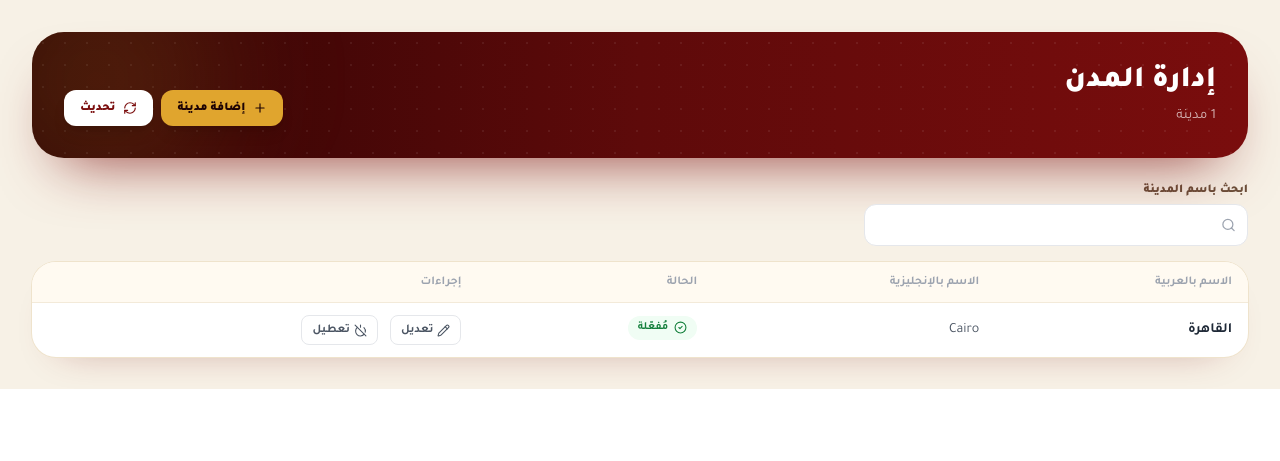
US1 — view the cities list and search › AC4: refresh re-fetches and reflects added / toggled cities, keeping the search term
Expected: the text "القاهرة" is shown, [995, 302, 1248, 357]
Step 1. Type "ة" into the field labelled "ابحث باسم المدينة" → (1056, 225), box [864, 204, 1248, 246]
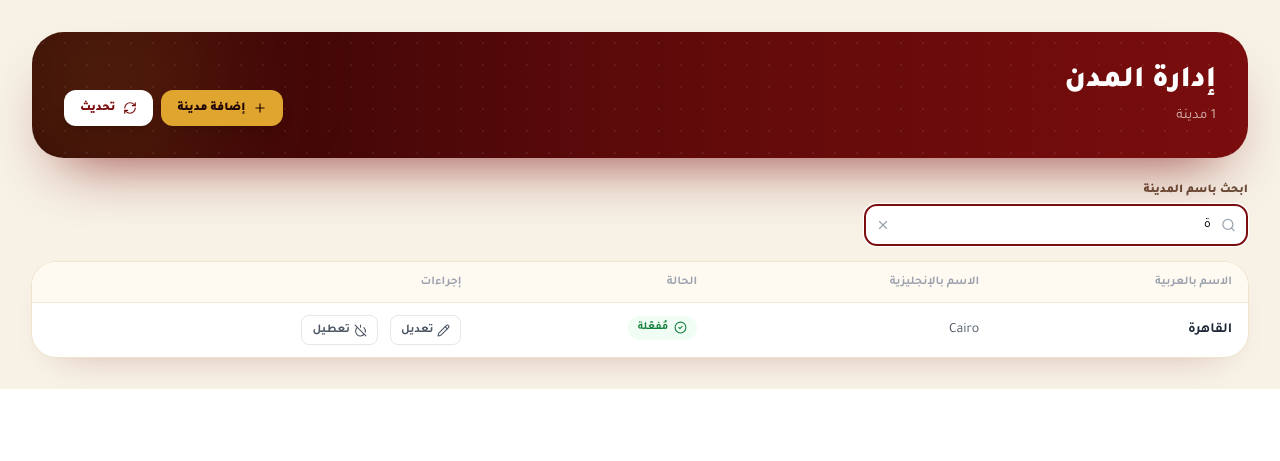
Step 2. Click the button "تحديث" → (109, 108), box [64, 90, 153, 126]
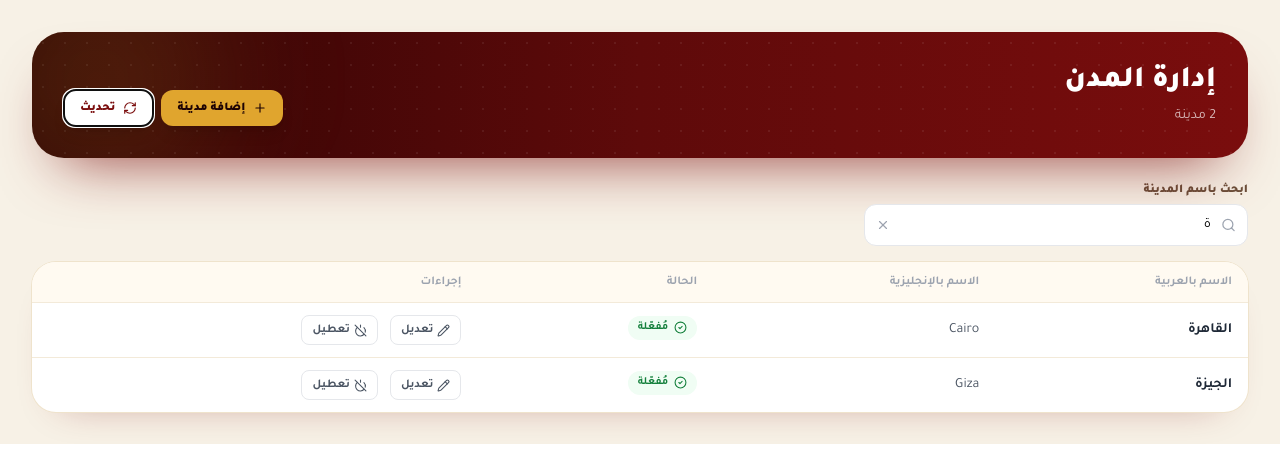
Result: the text "الجيزة" is shown at [995, 358, 1248, 412]
